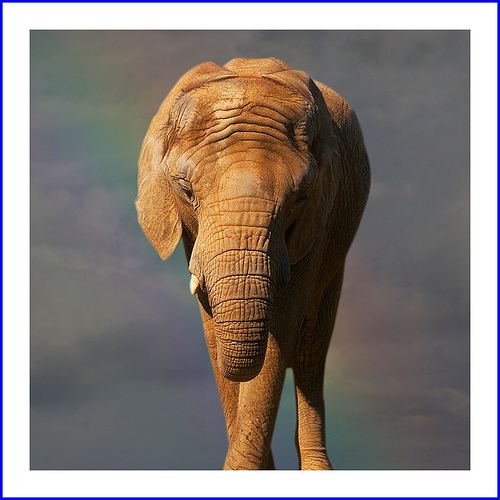elephant: (127, 44, 379, 468)
